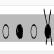correct: (15, 19, 24, 42)
no answer: (29, 21, 38, 41), (2, 21, 10, 41)
not correct: (43, 7, 53, 47)
